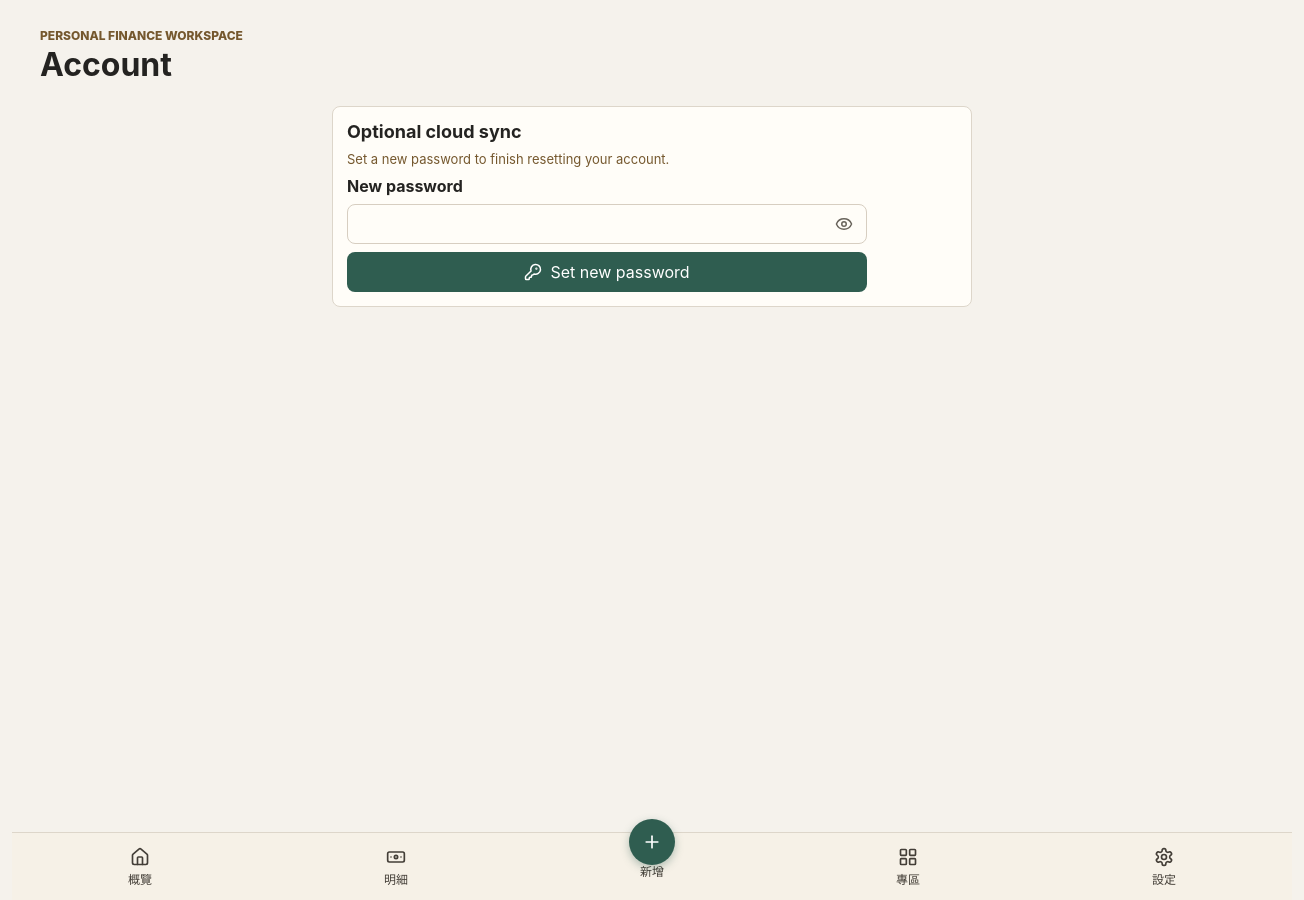
Test: app auth boundary › lands a password-recovery link on the new-password form instead of signing in
expect the button "Set new password" is shown: met, box [347,252,867,292]
expect the button "Confirm cloud handoff" is not shown: met
Type "new-secret" into the password field labelled "New password" at [607, 224], box [347,204,867,244]
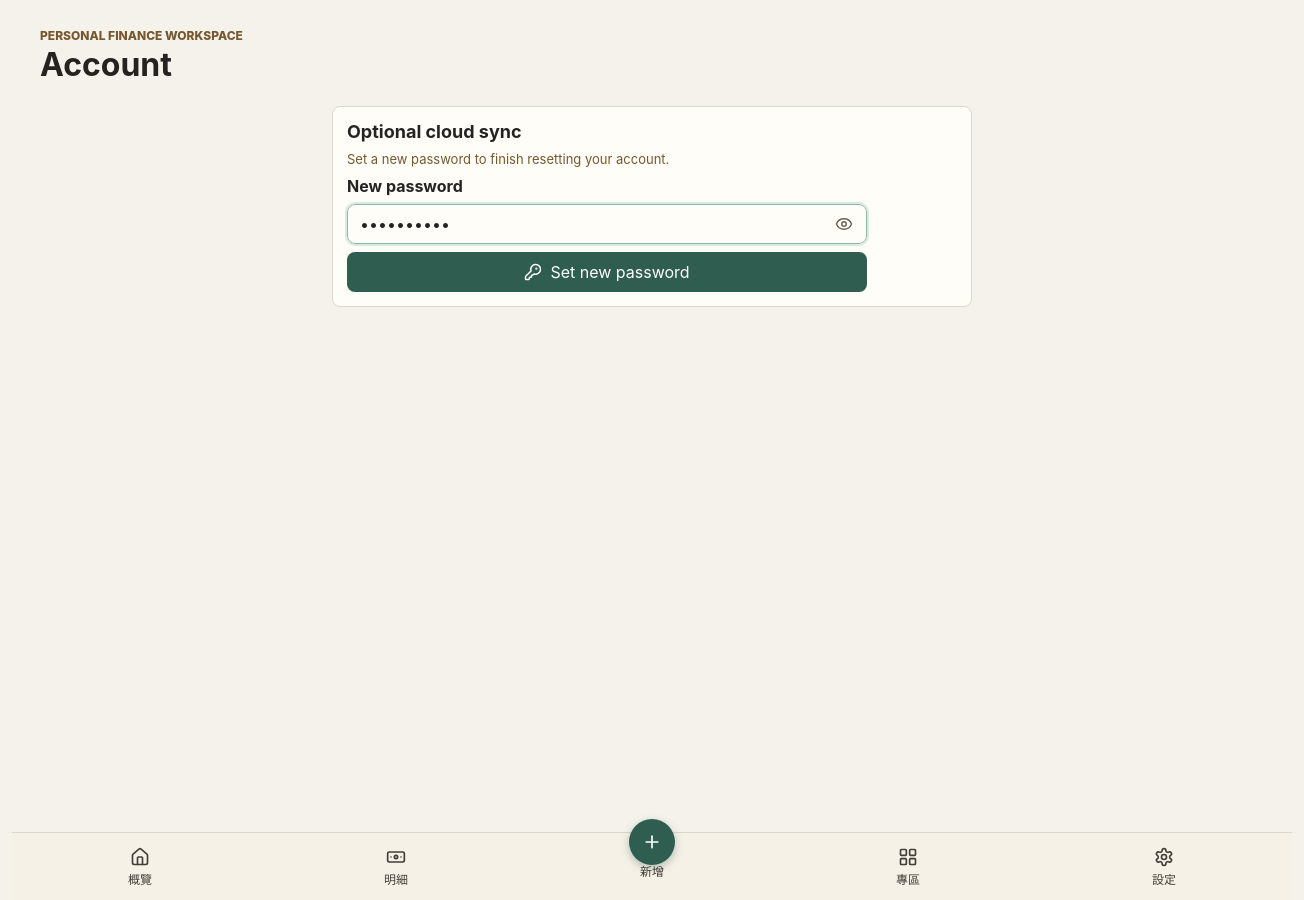
Click the button "Set new password" at [607, 272], box [347,252,867,292]
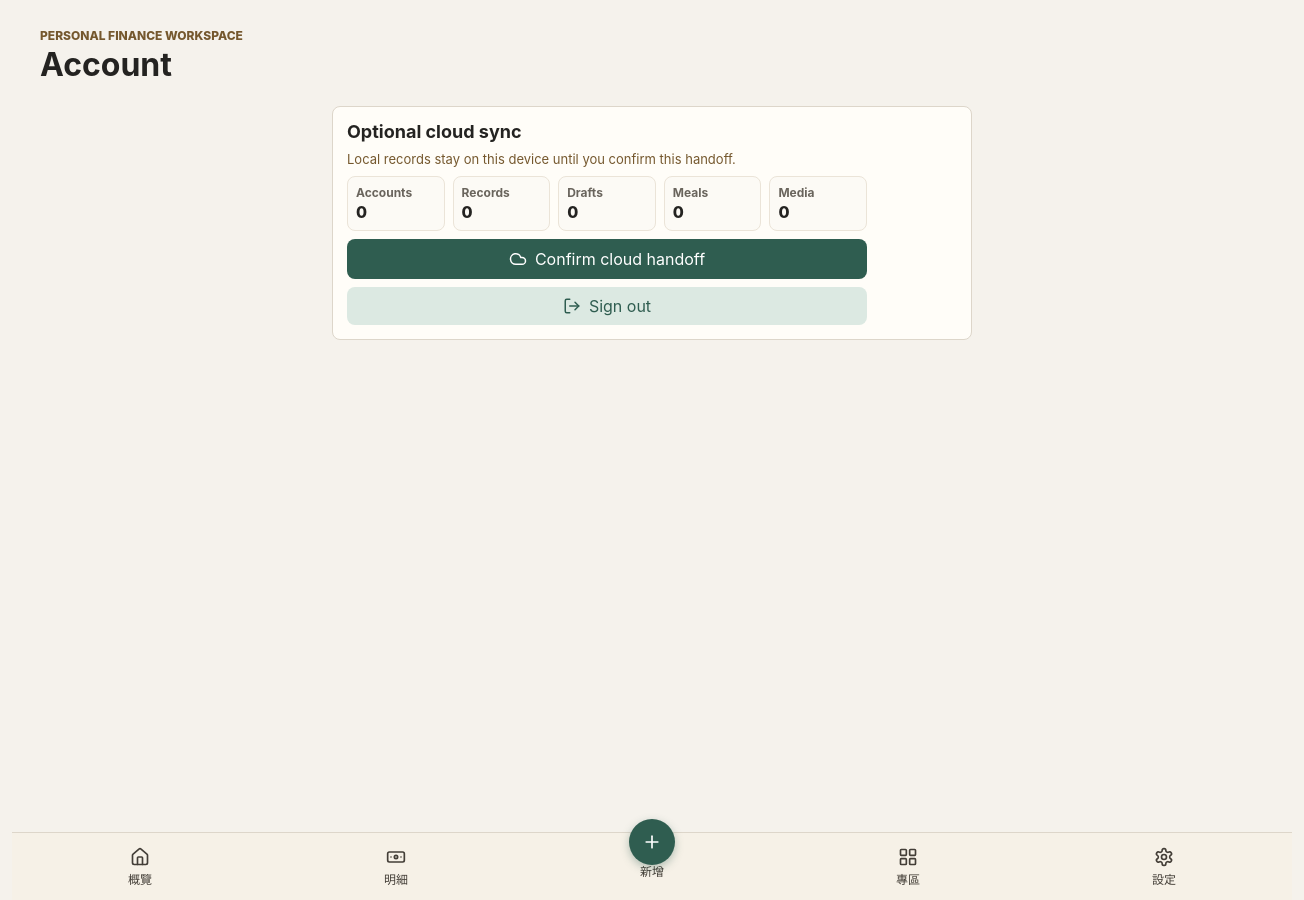
expect the button "Confirm cloud handoff" is shown: met, box [347,239,867,279]
